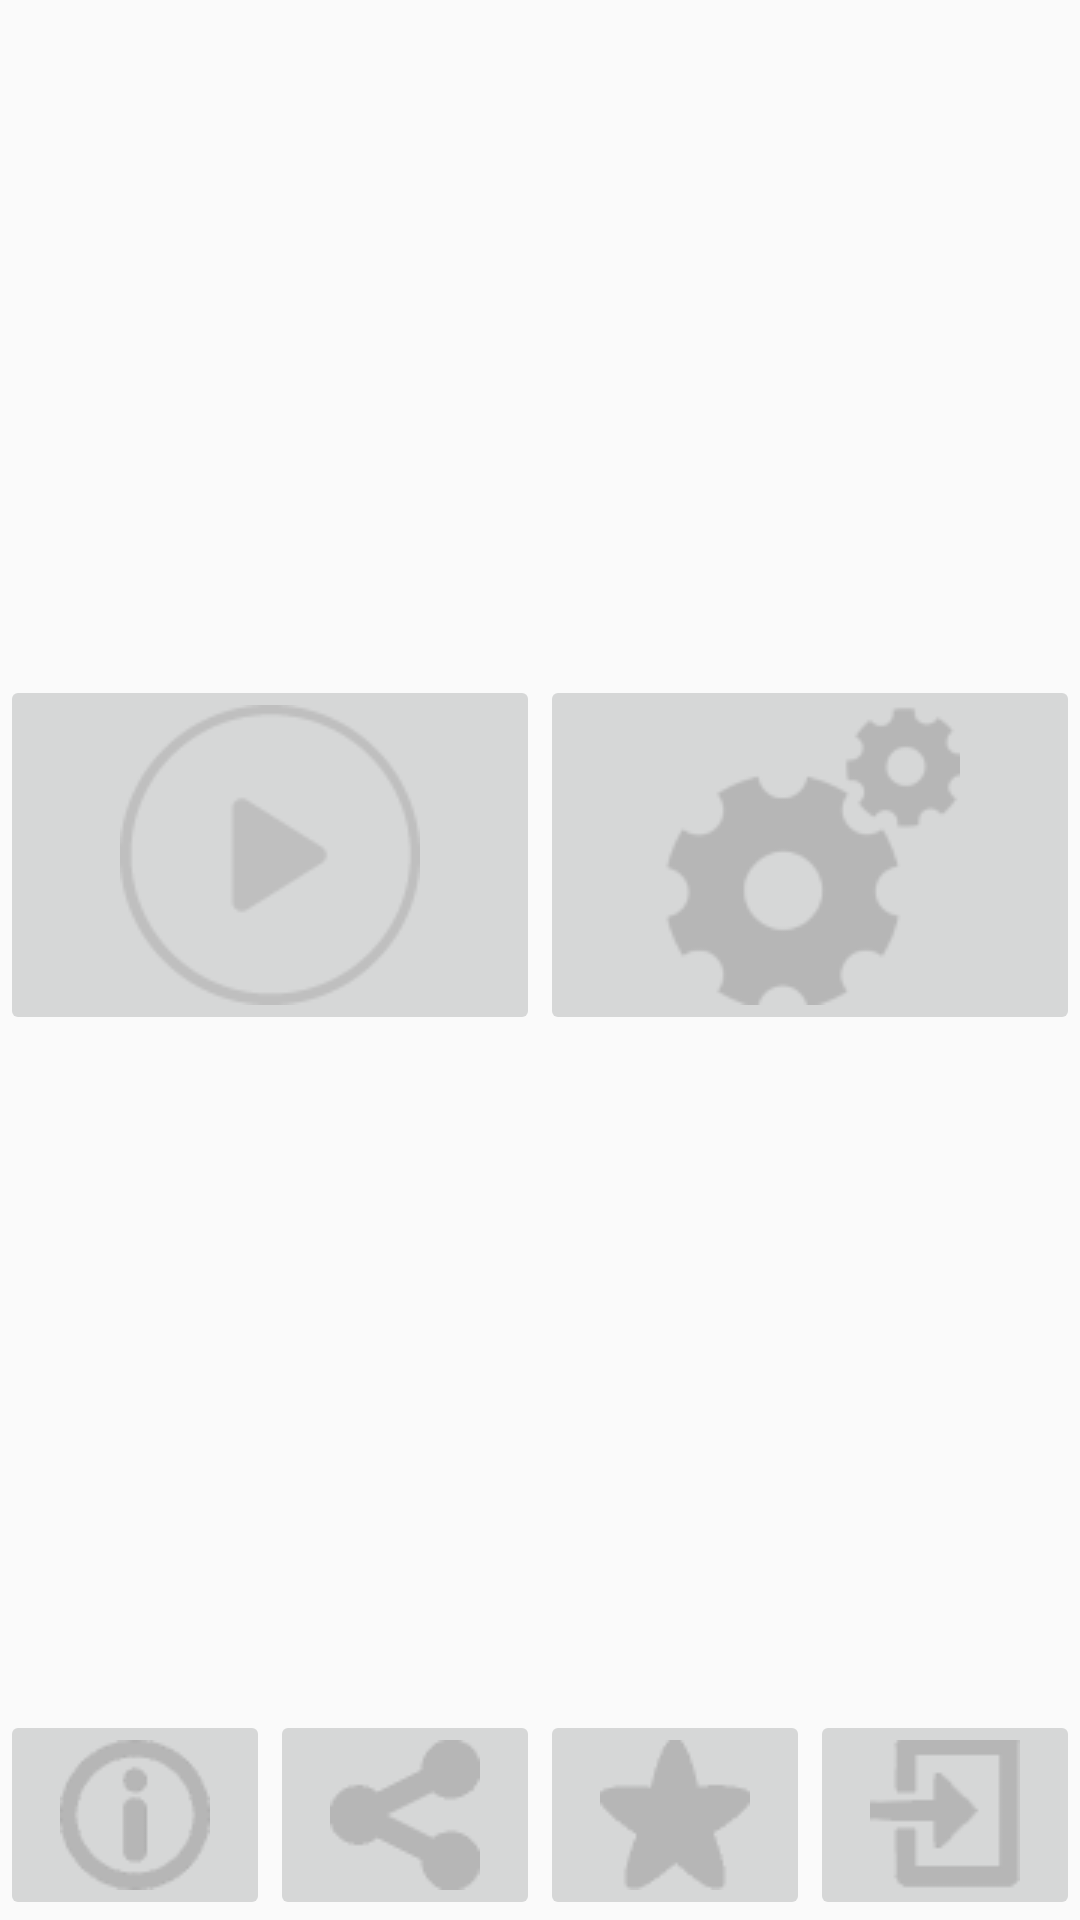

Point at icon controls on the screen. Image size 1080 × 1920, points as (x=x, y=y).
credits: (x=135, y=1815)
exit: (x=945, y=1815)
rate: (x=675, y=1815)
share: (x=405, y=1815)
